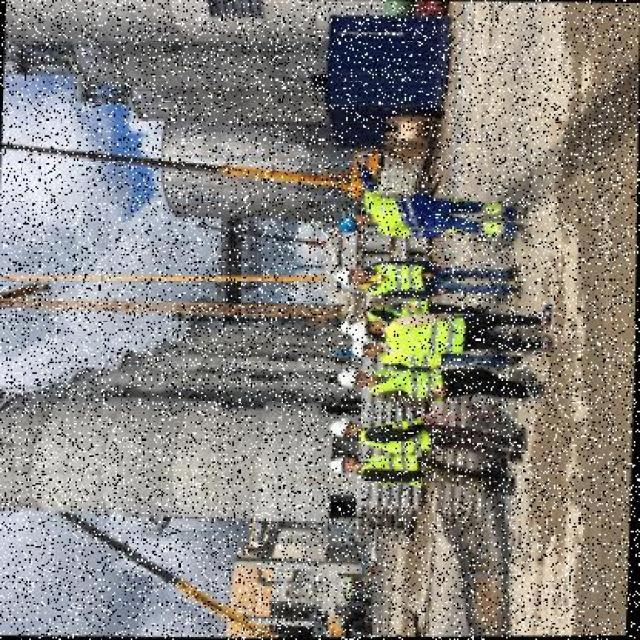helmet: (349, 311, 371, 345), (336, 262, 358, 286), (337, 209, 359, 233), (337, 368, 362, 388), (328, 417, 350, 439), (328, 454, 350, 476), (351, 342, 369, 358)
vest: (369, 183, 439, 234), (385, 309, 469, 349), (365, 363, 449, 399), (361, 257, 435, 296), (357, 417, 435, 453), (355, 454, 427, 485), (376, 348, 447, 367)
